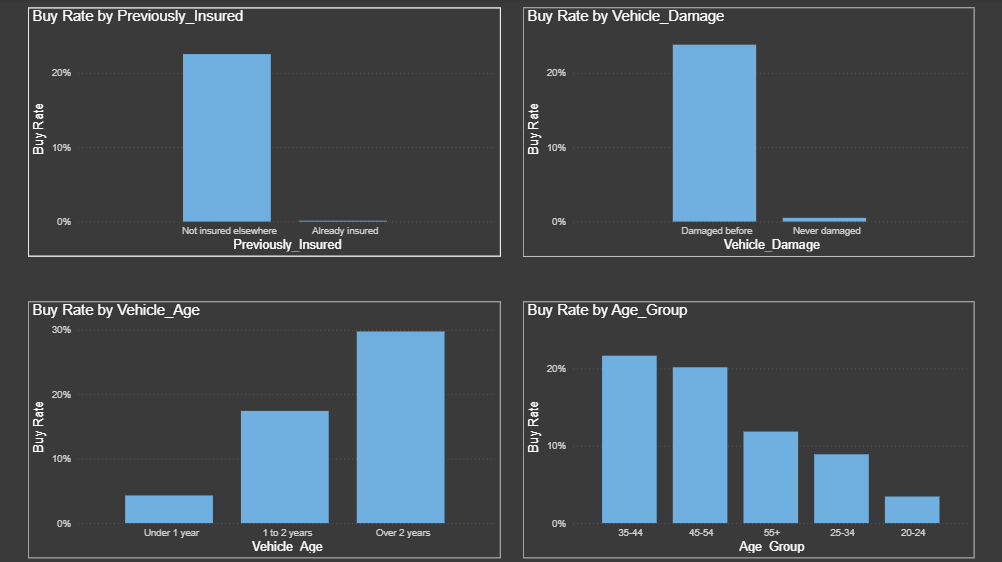

This screenshot's page, from the dashboard's own definition file:
{"tool":"powerbi","page":{"name":"Who buys","canvas":[1280,720],"ordinal":2},"visuals":[{"type":"columnChart","fields":{"Category":["customers.Previously_Insured"],"Y":["customers.Buy Rate"]},"box":[45.4,13.2,595.3,313.7],"z":0},{"type":"columnChart","fields":{"Y":["customers.Buy Rate"],"Category":["customers.Vehicle_Damage"]},"box":[669,13.2,568.8,313.7],"z":1000},{"type":"columnChart","fields":{"Y":["customers.Buy Rate"],"Category":["customers.Vehicle_Age"]},"box":[45.4,383.6,595.3,323.2],"z":2000},{"type":"columnChart","fields":{"Y":["customers.Buy Rate"],"Category":["customers.Age_Group"]},"box":[669,383.6,568.8,323.2],"z":3000}]}

Visuals, with their boxes in screenshot pixels (x1, y1, x2, y2), scaled from the page's 1280x720 canvas onto the 1002x562 screenshot:
columnChart - customers.Previously_Insured x customers.Buy Rate: region(36, 10, 502, 255)
columnChart - customers.Buy Rate x customers.Vehicle_Damage: region(524, 10, 969, 255)
columnChart - customers.Buy Rate x customers.Vehicle_Age: region(36, 299, 502, 552)
columnChart - customers.Buy Rate x customers.Age_Group: region(524, 299, 969, 552)
